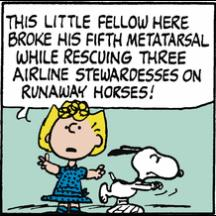snoopy: (97, 144, 187, 214)
